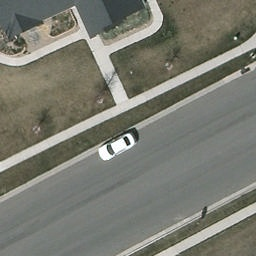car: (95, 132, 138, 162)
